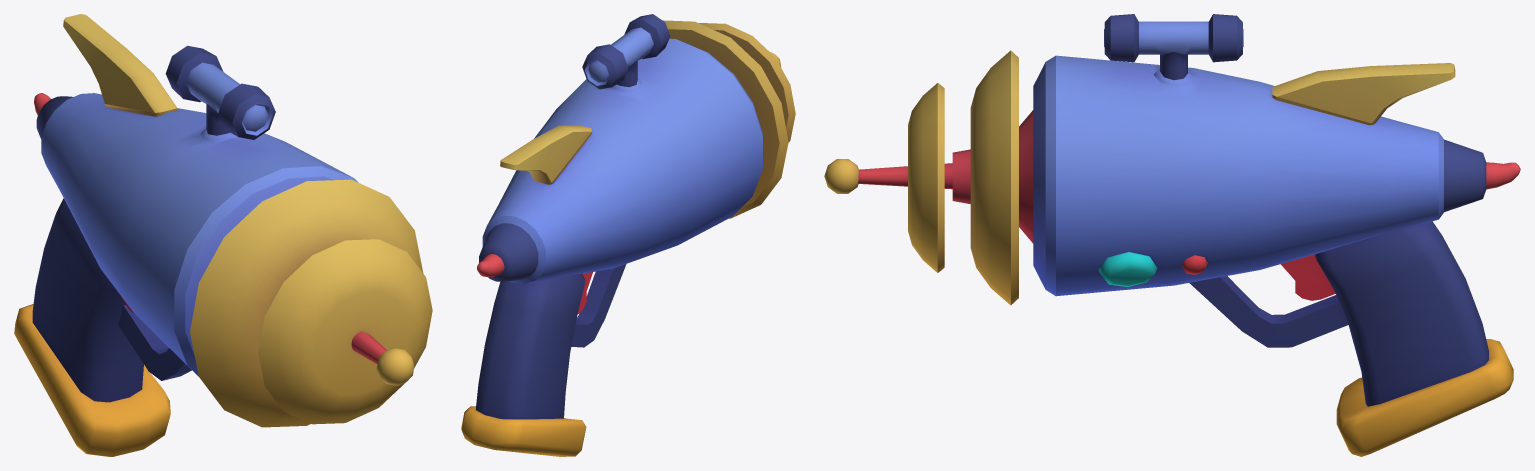
The model's file is LowPoly_LaserGun.fbx.
The picture shows the model from 3 angles, left to right: view 1: azimuth 30°, elevation 25°; view 2: azimuth 150°, elevation 25°; view 3: azimuth 270°, elevation 25°; orthographic projection. The views are drawn at different scales.
Visible parts, largest first — view 1: LaserCannon; view 2: LaserCannon; view 3: LaserCannon.
Boxes of the visible parts, left/top/right/bottom form: LaserCannon: left=14, top=14, right=432, bottom=456; LaserCannon: left=461, top=14, right=795, bottom=456; LaserCannon: left=824, top=14, right=1520, bottom=456.
Bounding box in the file's own units: 68 × 127 × 185.
